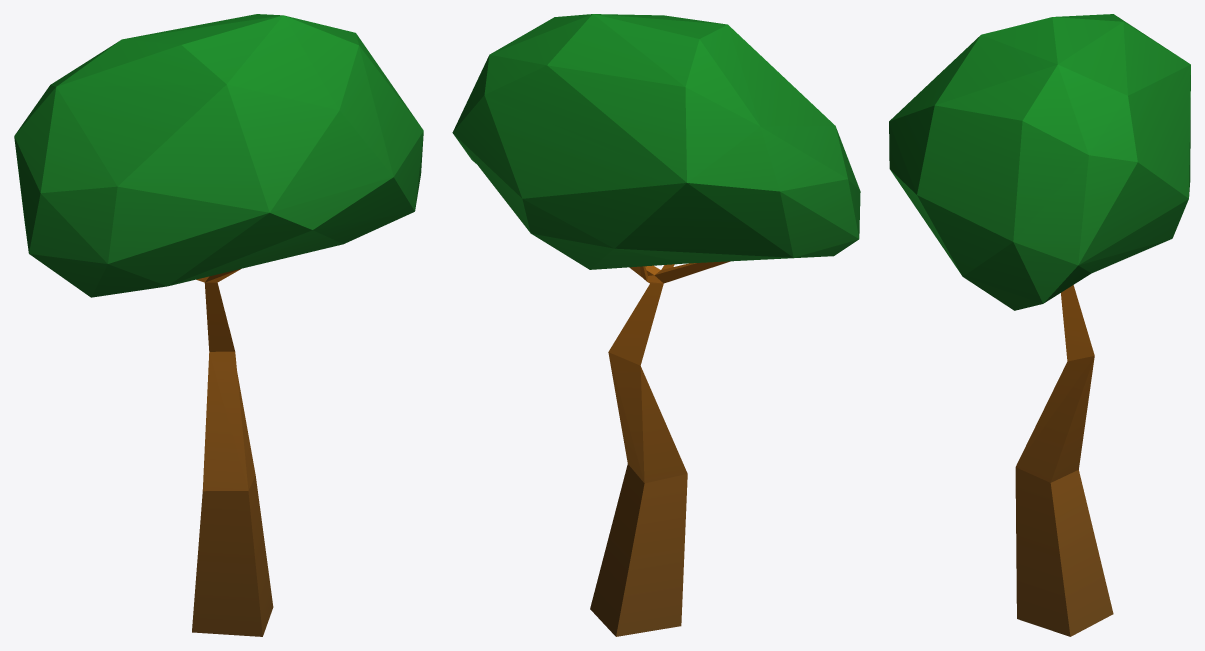
File: Tree_7.fbx
The picture shows the model from 3 angles, left to right: view 1: azimuth 30°, elevation 25°; view 2: azimuth 150°, elevation 25°; view 3: azimuth 270°, elevation 25°; orthographic projection. The views are drawn at different scales.
Visible parts, largest first — view 1: Tree_7; view 2: Tree_7; view 3: Tree_7.
Boxes of the visible parts, box(x1,y1,x2,y2) form: Tree_7: box(14, 14, 423, 636); Tree_7: box(452, 14, 860, 636); Tree_7: box(889, 14, 1190, 636).
Size of the model in its own units: 501 by 724 by 345.
